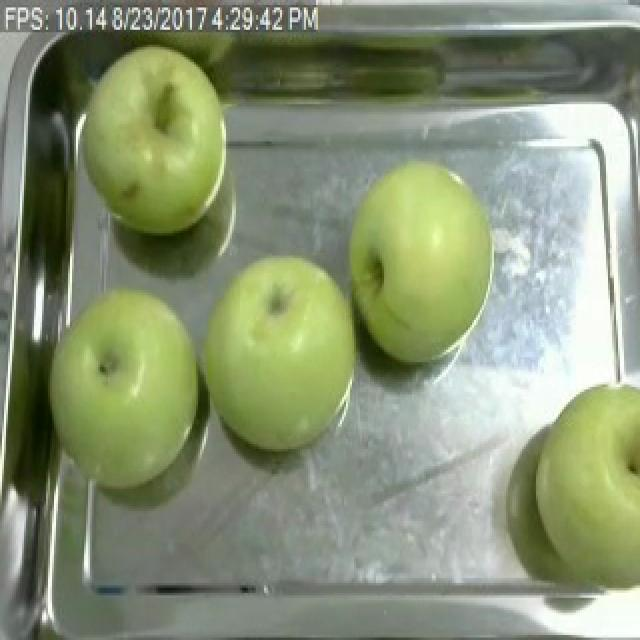50-_ripeness: (191, 248, 372, 451), (341, 162, 505, 364), (73, 39, 235, 229), (47, 294, 204, 482), (534, 371, 640, 589)
